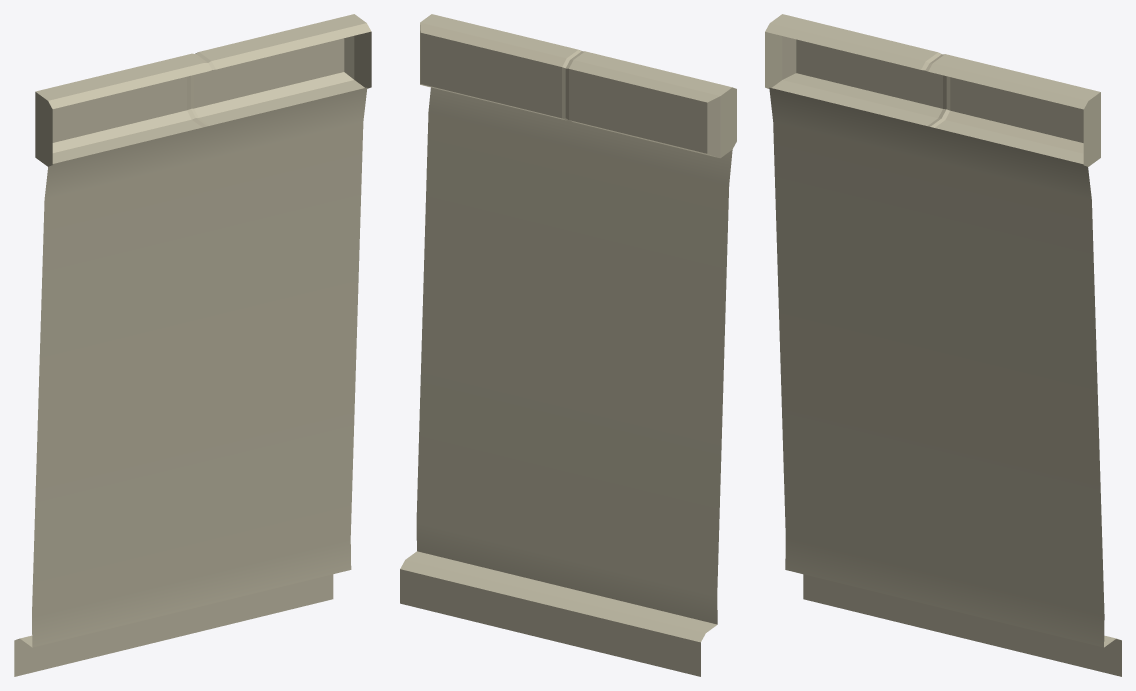
File: Wall0.fbx
3 renders of one model, left to right at view 1: azimuth 30°, elevation 25°; view 2: azimuth 150°, elevation 25°; view 3: azimuth 330°, elevation 25°, orthographic. The views are drawn at different scales.
Visible parts, largest first — view 1: Plain_Wall0; view 2: Plain_Wall0; view 3: Plain_Wall0.
Boxes of the visible parts, x1,y1,x2,y2 form: Plain_Wall0: (14,14,371,676); Plain_Wall0: (400,14,736,676); Plain_Wall0: (765,14,1121,676).
Size of the model in its own units: 1 by 1.8 by 0.2079.
